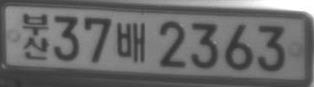2: (158, 20, 186, 68)
3: (257, 24, 286, 72), (191, 21, 219, 69), (53, 15, 80, 62)
6: (224, 22, 253, 71)
7: (83, 16, 112, 64)
배: (116, 22, 146, 63)
부산_V: (22, 12, 49, 60)
